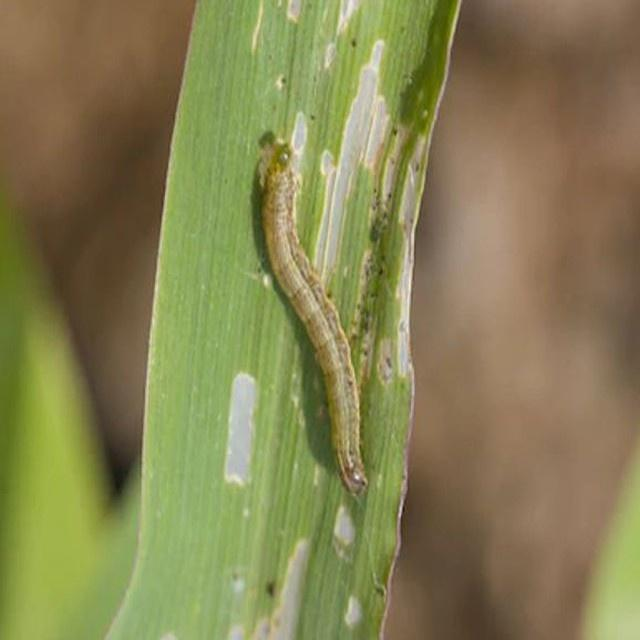gusano_cogollero: (258, 124, 372, 503)
